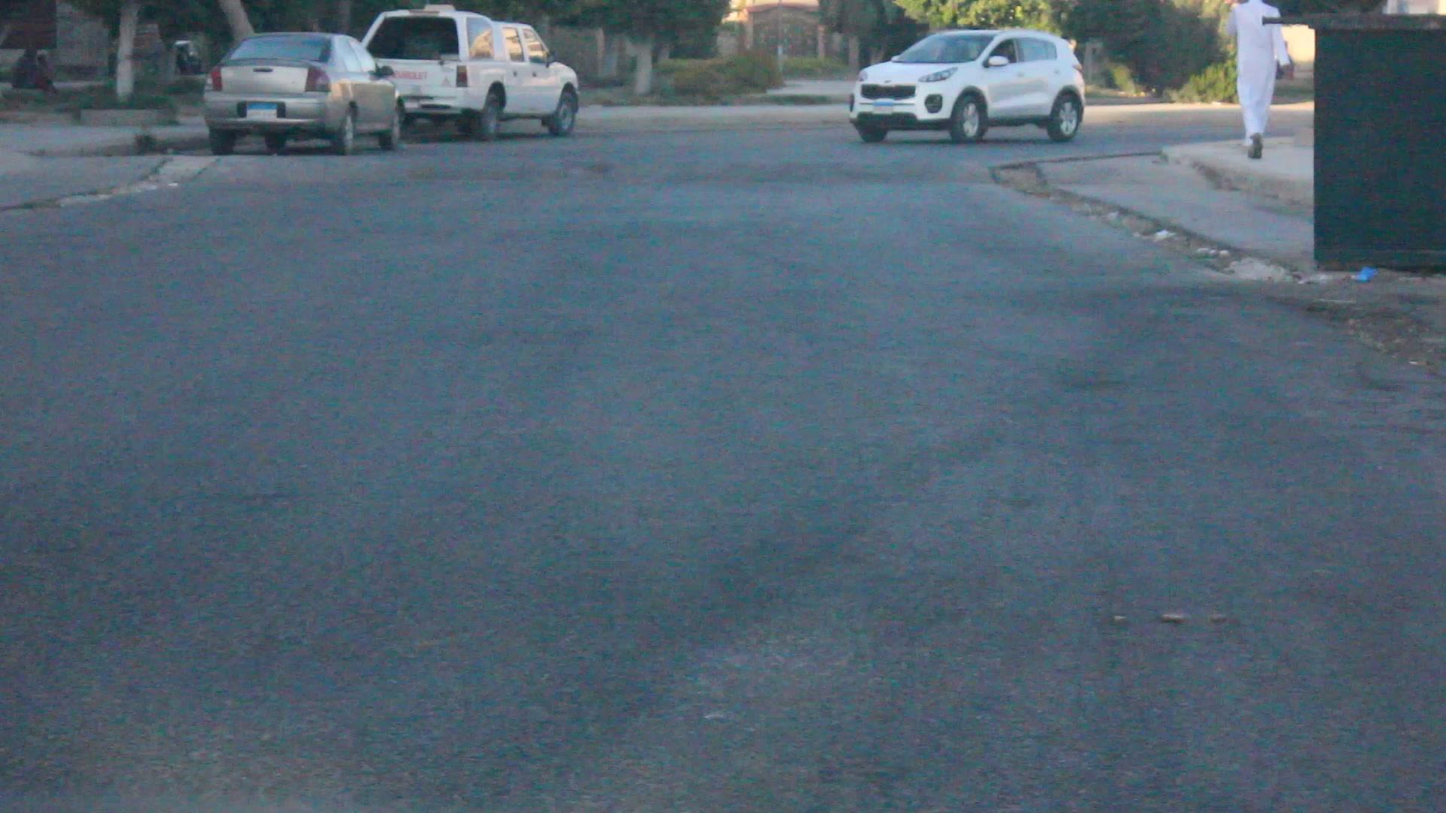Bump: (153, 145, 1017, 201)
